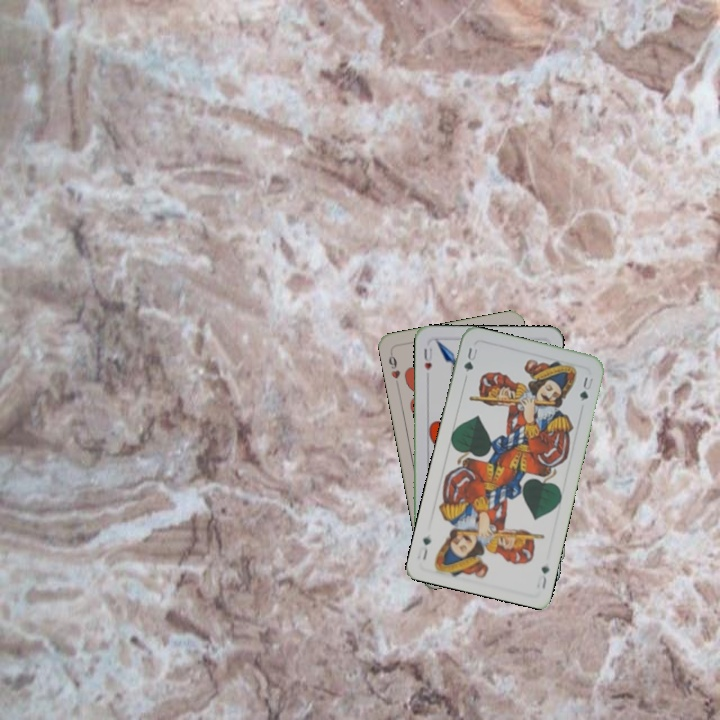GU: (460, 344, 480, 375), (537, 562, 552, 592)
H9: (384, 348, 403, 388)
HU: (420, 344, 435, 373)
